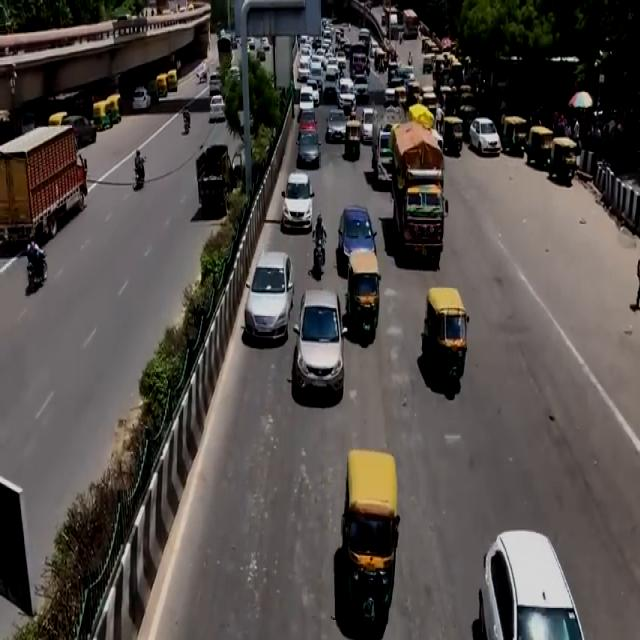MOTORCYCLE: (26, 252, 48, 297)
TRUCK: (392, 154, 445, 272), (195, 122, 232, 218)
